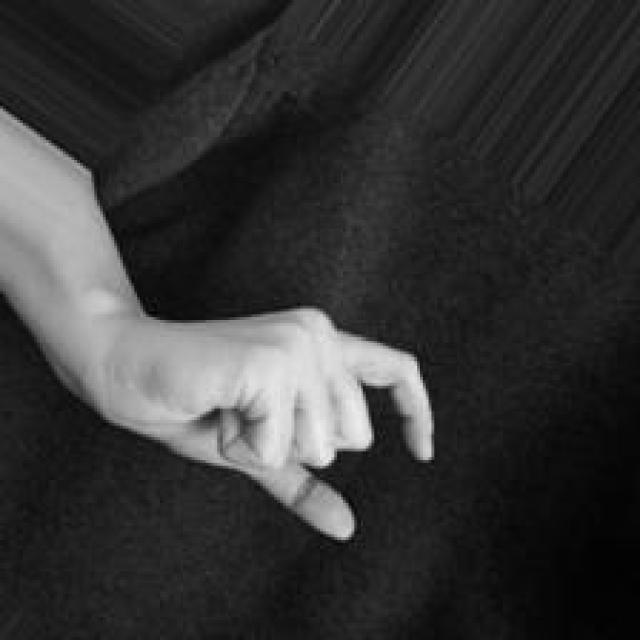C: (156, 306, 435, 546)
